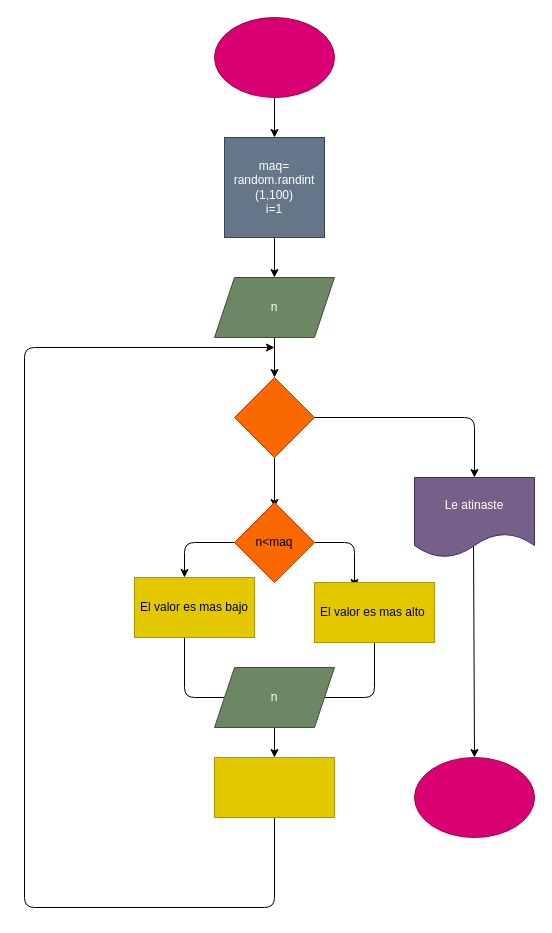
Some shapes in this 552 by 933 pixel diagram are drawn without their labels. The shapes that lost their labels are listed below. From the top down, each one's box as (x1, y1, x2, y2) in pixels, then its label:
(214, 16, 334, 98): INICIO
(234, 376, 314, 458): n!= maq
(214, 756, 334, 818): i = i+1
(414, 756, 534, 838): FIN
